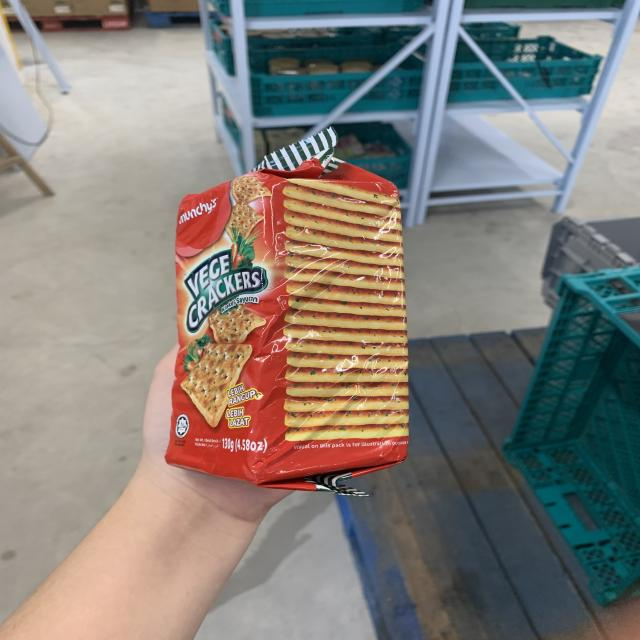object_name: (167, 181, 409, 478)
